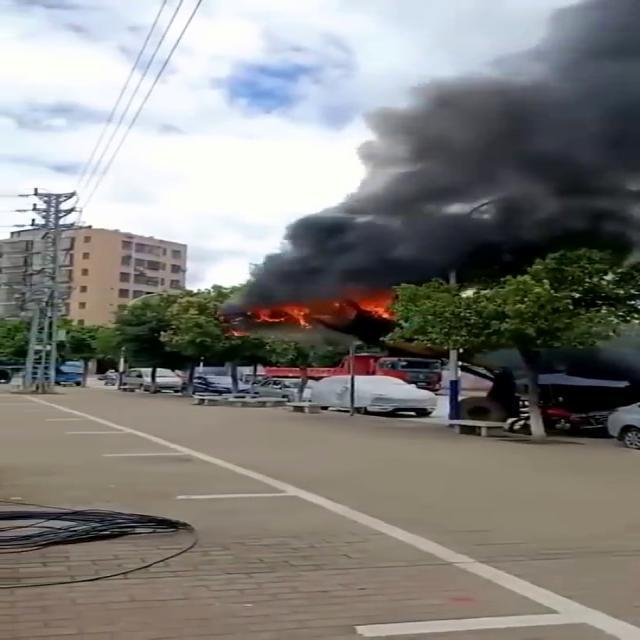Fire: (268, 294, 392, 328)
Smoke: (260, 64, 640, 291)
